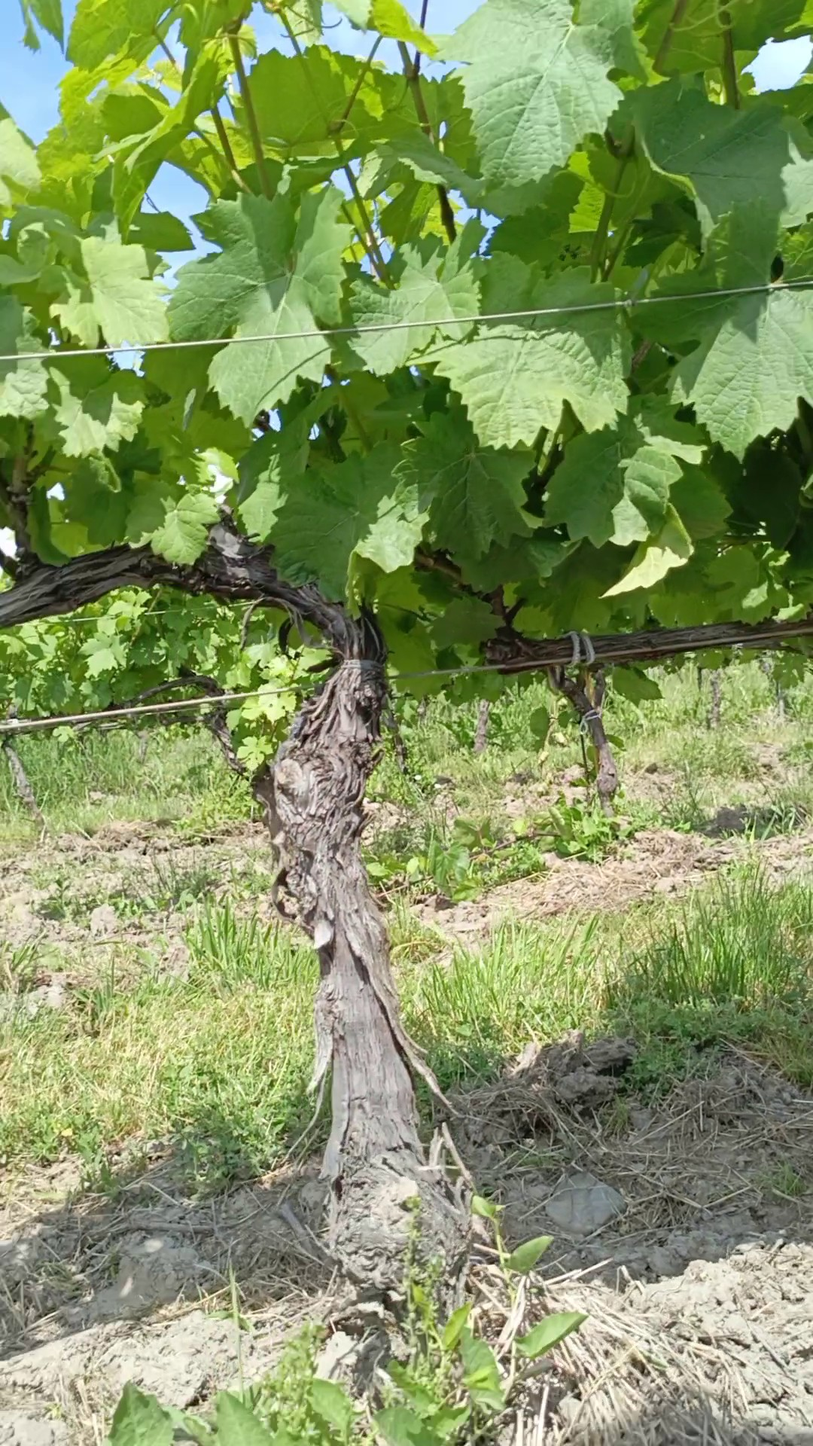vine_trunk: (260, 584, 464, 1287)
